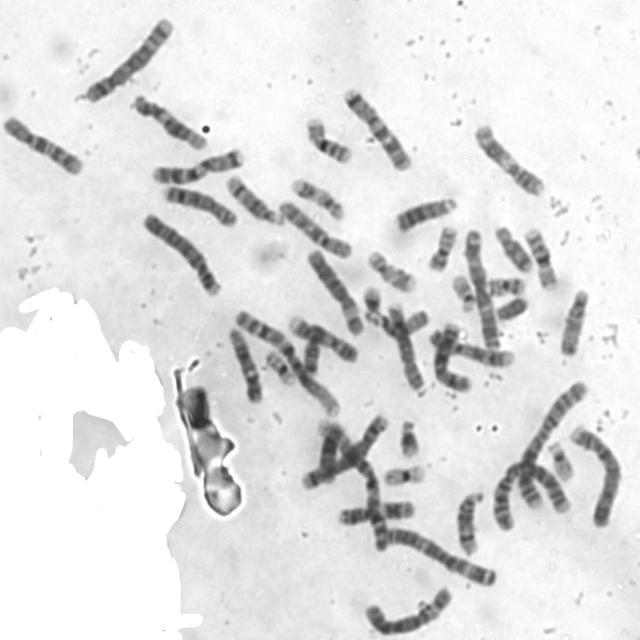A1: (230, 306, 342, 420), (314, 416, 390, 552)
A2: (514, 376, 588, 512), (488, 455, 574, 531)
A3: (378, 522, 499, 589), (460, 226, 502, 350)
B4: (138, 207, 222, 299), (566, 421, 622, 527)
B5: (80, 13, 177, 105), (297, 409, 390, 491)
C10: (0, 111, 85, 178), (275, 196, 354, 260)
C11: (470, 120, 548, 199), (333, 495, 416, 527)
C12: (128, 90, 208, 152), (224, 322, 264, 405)
C6: (303, 245, 365, 338), (358, 583, 456, 637)
C7: (338, 83, 414, 173), (148, 143, 246, 186)
C8: (383, 300, 428, 397), (158, 180, 241, 230)
C9: (284, 312, 360, 366), (424, 325, 516, 368)
D13: (391, 193, 460, 235), (316, 423, 346, 486)
D14: (222, 171, 284, 226), (452, 486, 486, 558)
D15: (555, 285, 591, 357), (362, 305, 431, 338)
E16: (300, 112, 354, 167), (521, 223, 560, 292)
E17: (287, 173, 346, 222), (363, 245, 419, 295)
E18: (492, 221, 534, 274), (300, 327, 322, 376)
F19: (261, 346, 297, 389), (380, 461, 428, 488)
F20: (424, 221, 459, 274), (482, 273, 527, 298)
G21: (395, 415, 422, 460), (358, 281, 384, 321)
G22: (544, 437, 577, 483), (449, 270, 477, 313)
X: (430, 322, 472, 394)
Y: (491, 293, 530, 322)
